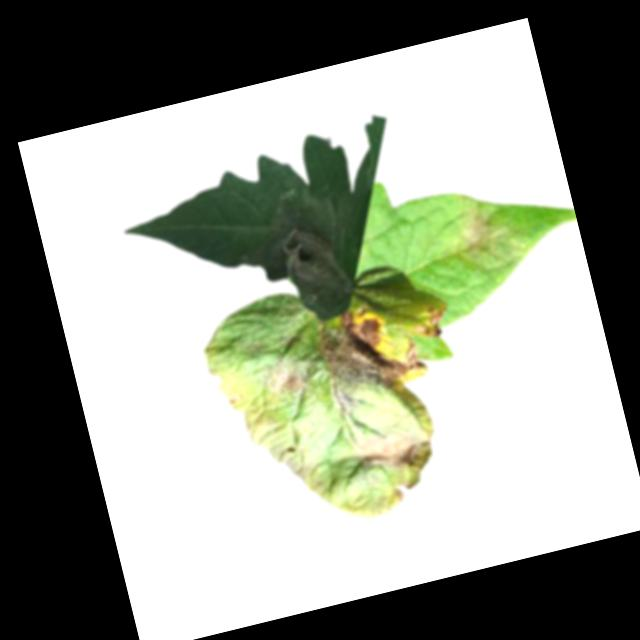Late_blight: (315, 296, 428, 420), (352, 419, 436, 483), (278, 219, 346, 291), (264, 434, 322, 487), (457, 206, 509, 265), (261, 354, 318, 401), (407, 302, 452, 340), (227, 389, 247, 406)
